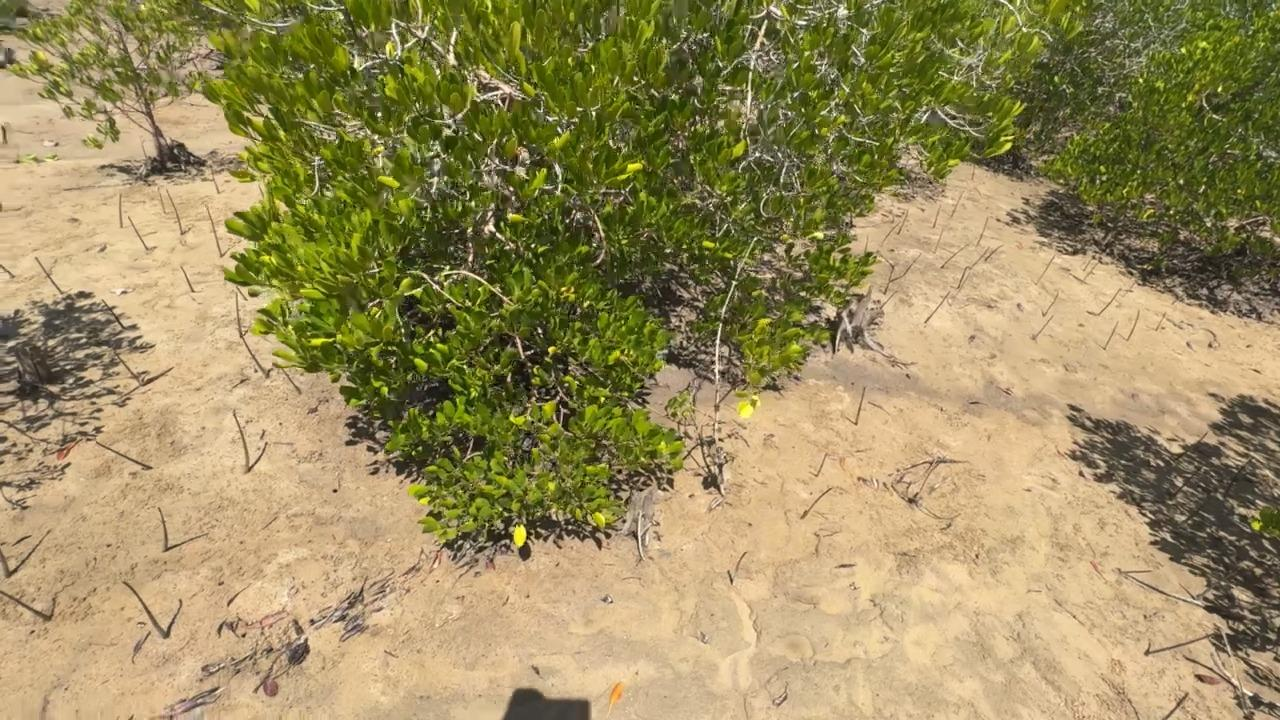Tree: (121, 580, 169, 639), (1142, 631, 1223, 657), (876, 250, 922, 294), (0, 588, 52, 623), (1171, 456, 1213, 499), (32, 255, 65, 297), (1169, 430, 1210, 462), (241, 333, 269, 379), (1196, 568, 1240, 596), (232, 409, 250, 474), (800, 487, 834, 520), (1225, 457, 1253, 496), (924, 292, 953, 323), (206, 206, 223, 258), (165, 188, 183, 236), (947, 271, 971, 305), (1162, 691, 1190, 720), (940, 242, 970, 269), (1096, 288, 1123, 317), (127, 216, 149, 251), (1079, 256, 1104, 285), (1182, 499, 1212, 523), (102, 299, 125, 329), (112, 350, 137, 377), (1030, 315, 1054, 341), (881, 219, 903, 246), (1035, 255, 1055, 284), (967, 245, 990, 269), (282, 366, 302, 393), (1102, 321, 1120, 350), (1126, 308, 1141, 342), (949, 266, 971, 288), (0, 546, 15, 578), (1040, 291, 1059, 316), (1121, 275, 1142, 297), (157, 507, 167, 552), (180, 265, 196, 292), (815, 452, 831, 477), (951, 189, 965, 217), (855, 386, 865, 425), (985, 243, 1005, 262), (933, 225, 946, 254), (977, 215, 989, 246), (880, 289, 899, 308), (896, 209, 909, 235), (236, 291, 243, 337), (209, 165, 220, 193), (1082, 254, 1097, 272), (0, 263, 16, 279), (1155, 310, 1167, 331), (157, 188, 166, 214), (235, 285, 248, 302), (934, 203, 942, 228), (1116, 568, 1154, 573), (118, 193, 123, 229), (0, 125, 8, 144), (863, 234, 869, 253), (727, 569, 733, 585), (850, 211, 854, 227), (972, 163, 975, 180)
